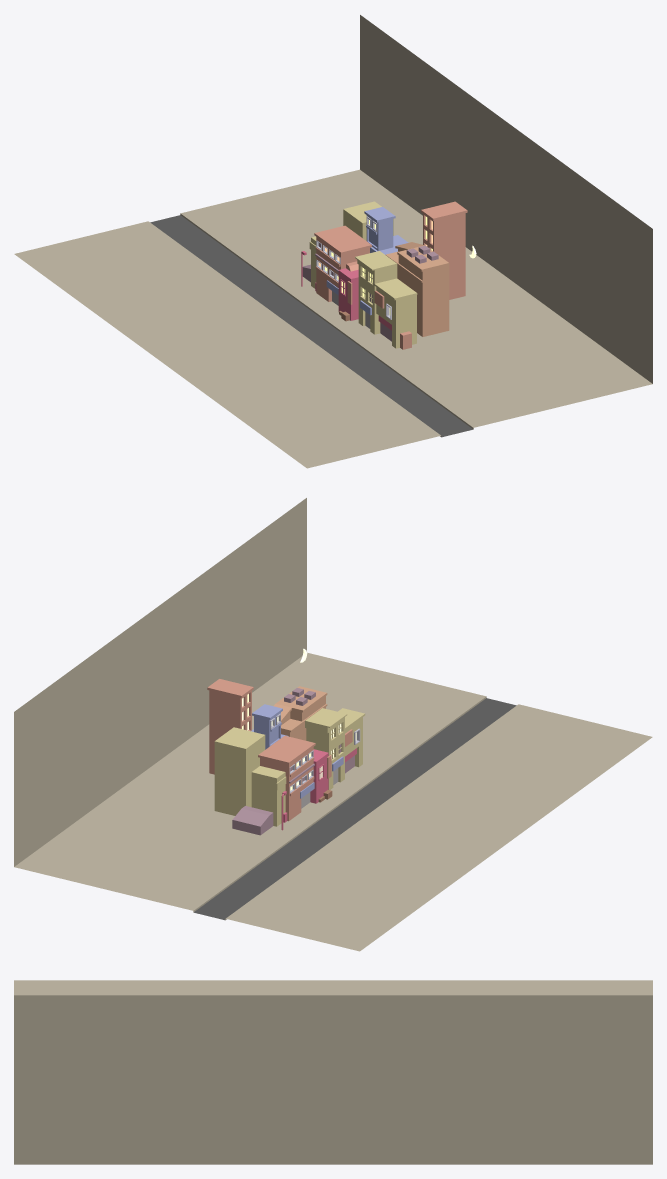
3 renders of one model, top to bottom at view 1: azimuth 30°, elevation 25°; view 2: azimuth 150°, elevation 25°; view 3: azimuth 270°, elevation 25°, orthographic. The views are drawn at different scales.
Parts seen in each view (by area): view 1: 立方体, 立方体.014, 立方体.003, 立方体.016, 立方体.002, 立方体.001, 立方体.013, 立方体.008, 立方体.015; view 2: 立方体, 立方体.014, 立方体.015, 立方体.003, 立方体.002, 立方体.001, 立方体.011, 立方体.016, 立方体.005, 立方体.013, 立方体.008; view 3: 立方体.014, 立方体.
Boxes of the visible parts, <box> form: 立方体: <box>14,169,652,468</box>; 立方体.014: <box>360,15,652,383</box>; 立方体.003: <box>355,251,417,348</box>; 立方体.016: <box>385,242,449,336</box>; 立方体.002: <box>421,201,467,299</box>; 立方体.001: <box>314,225,371,305</box>; 立方体.013: <box>364,207,395,250</box>; 立方体.008: <box>338,268,358,320</box>; 立方体.015: <box>343,201,393,240</box>; 立方体: <box>14,652,652,951</box>; 立方体.014: <box>14,498,306,866</box>; 立方体.015: <box>214,727,265,815</box>; 立方体.003: <box>305,708,365,789</box>; 立方体.002: <box>207,679,253,774</box>; 立方体.001: <box>258,735,315,821</box>; 立方体.011: <box>251,766,286,826</box>; 立方体.016: <box>273,686,327,740</box>; 立方体.005: <box>232,806,273,835</box>; 立方体.013: <box>252,704,282,747</box>; 立方体.008: <box>310,749,328,803</box>; 立方体.014: <box>14,995,652,1164</box>; 立方体: <box>14,980,652,995</box>.
Bounding box in the file's own units: 5406 × 2342 × 7933.
